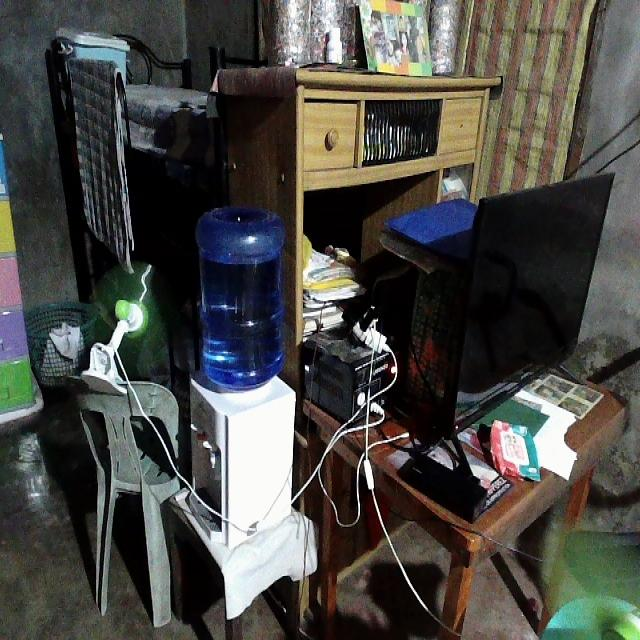-: (341, 296, 387, 351)
